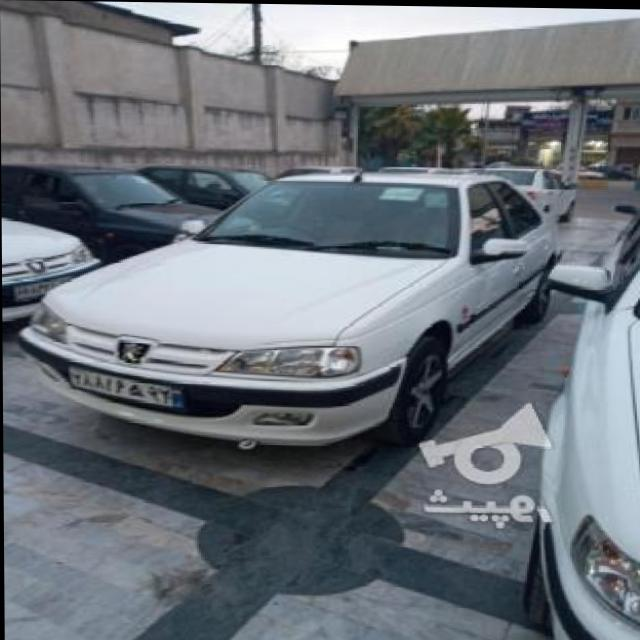licence: (64, 364, 187, 408), (12, 274, 80, 304)
